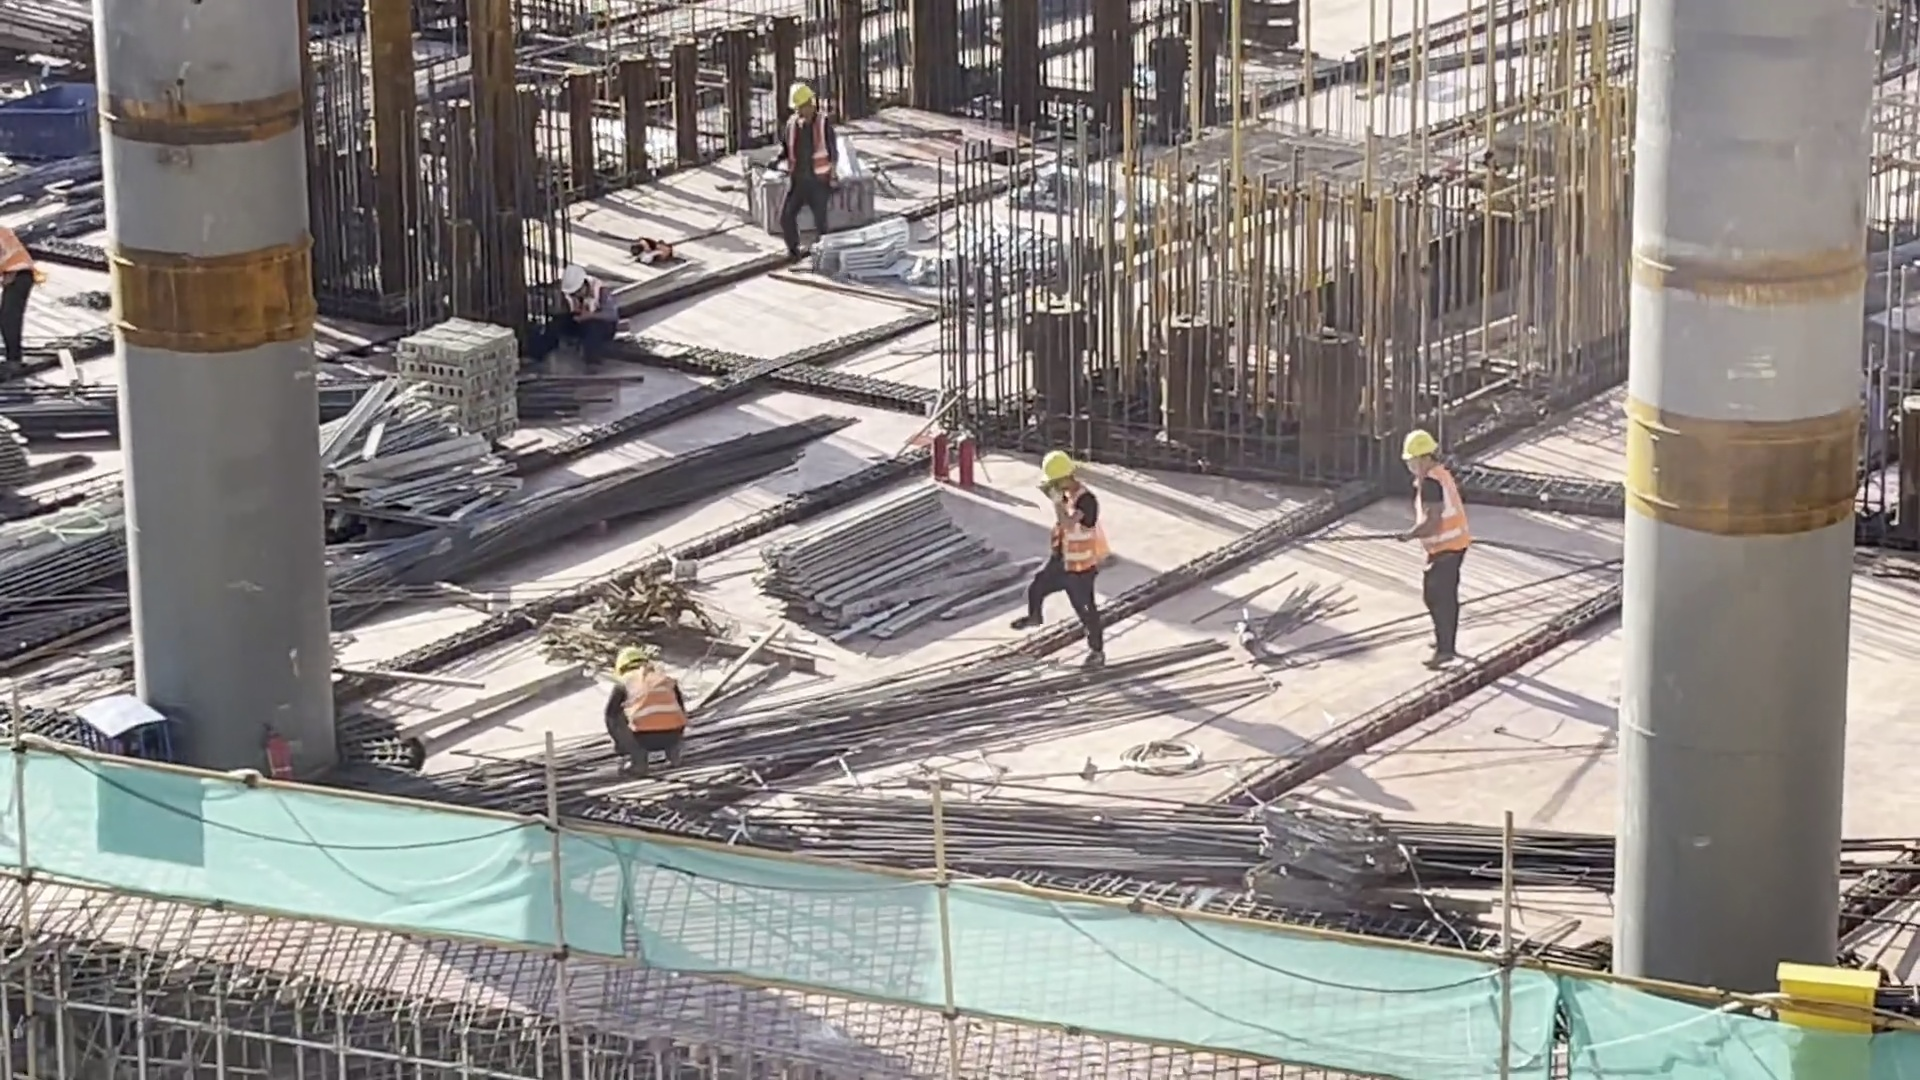ebox: (1755, 952, 1900, 1080)
helmet: (549, 263, 595, 308), (1033, 442, 1076, 481), (776, 76, 822, 109), (608, 638, 650, 668), (1405, 426, 1441, 460)
hopper: (733, 148, 892, 232), (7, 67, 114, 174)
person: (1380, 419, 1486, 675), (1018, 443, 1128, 657), (762, 63, 833, 228), (532, 254, 629, 375), (600, 648, 695, 767)
vest: (611, 655, 686, 744), (1404, 474, 1470, 559), (1053, 492, 1105, 572), (789, 118, 834, 167)
wood: (752, 472, 1007, 645)
